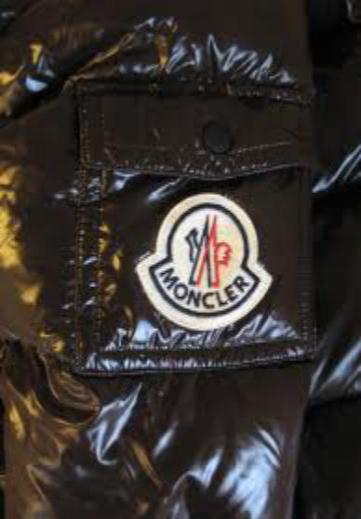MONCLER: (182, 212, 236, 289)
